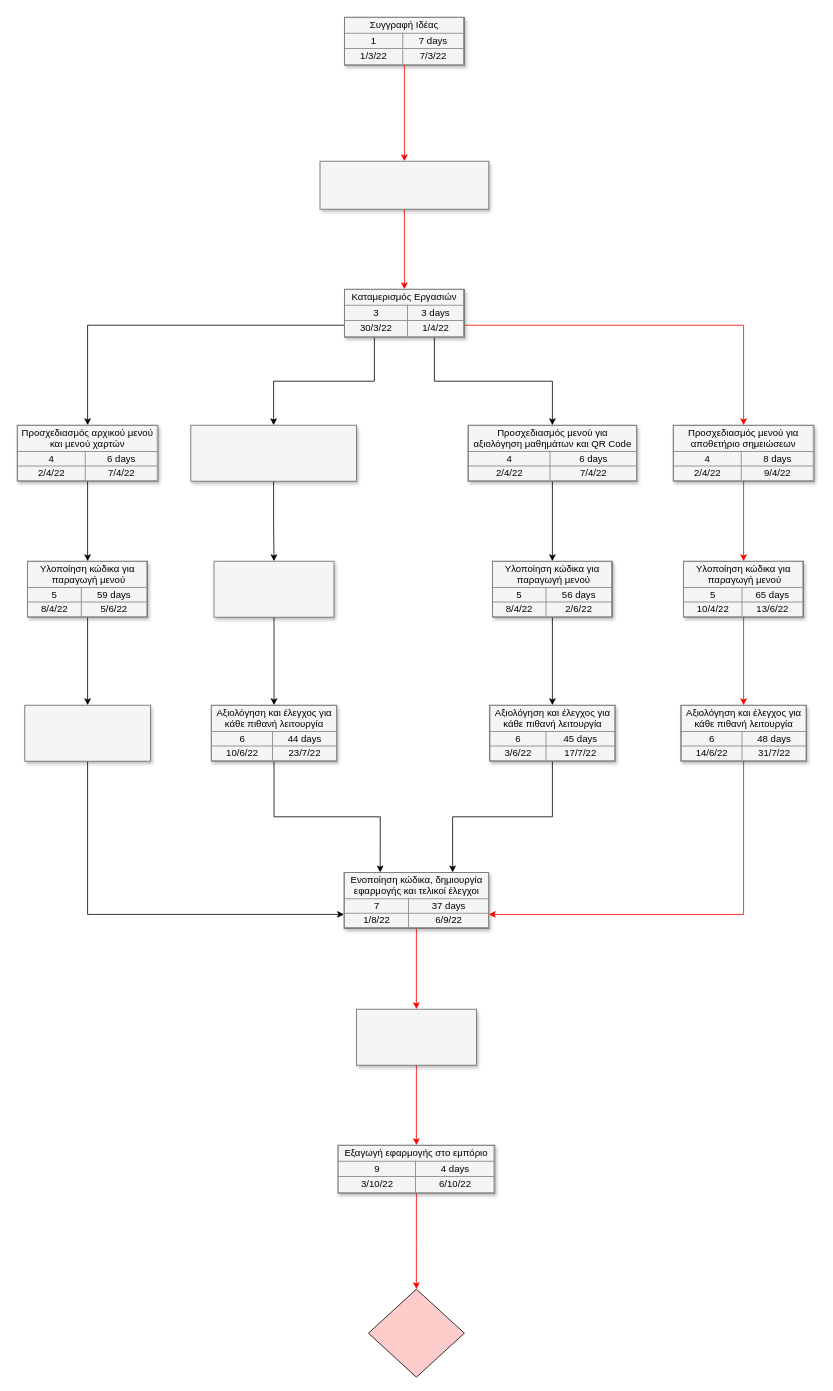
The diagram is 833 pixels wide and 1391 high, and some of its shapes have lost their labels. Here are the shapes that lost their labels. From the top down, the centre of each, then its label:
the point at 405,186: Αδειοδότηση Πανεπιστημίου Πατρών 2 22 days 8/3/22 29/3/22
the point at 274,454: Προσχεδιασμός αναζήτησης με GPS και προβολή ανακοινώσεων 4 7 days 2/4/22 8/4/22
the point at 274,590: Υλοποίηση κώδικα για παραγωγή μενού 5 62 days 9/4/22 9/6/22
the point at 88,734: Αξιολόγηση και έλεγχος για κάθε πιθανή λειτουργία 6 41 days 6/6/22 16/7/22
the point at 416,1038: Τακτοποίηση νομικών και εμπορικών ζητημάτων 8 26 days 7/9/22 2/10/22
the point at 416,1332: ΠΑΡΆΔΟΣΗ
